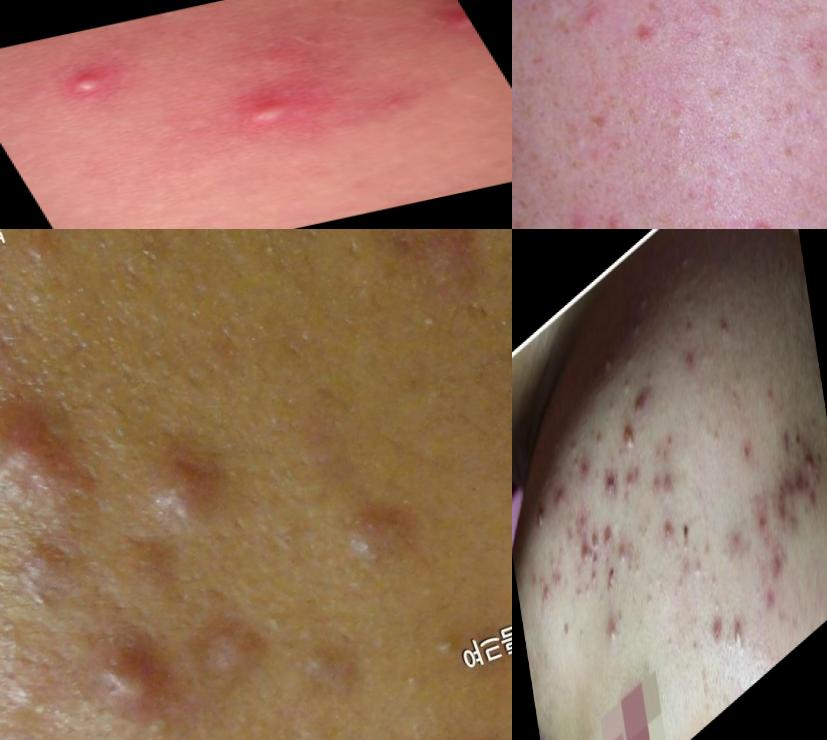acne_scars: (773, 449, 816, 519)
milium: (397, 293, 457, 352)
papular: (1, 380, 105, 541), (553, 191, 611, 230), (593, 196, 650, 230), (628, 378, 655, 434), (570, 1, 613, 35), (754, 498, 779, 555), (657, 456, 684, 502), (601, 458, 623, 512), (767, 543, 789, 595), (658, 511, 682, 554), (575, 523, 595, 566), (679, 344, 699, 385), (552, 476, 571, 519), (548, 564, 567, 605), (589, 422, 607, 462), (577, 448, 594, 490), (623, 465, 641, 503), (601, 508, 614, 551)
purulent: (77, 625, 183, 733), (128, 441, 230, 551), (33, 51, 145, 116), (232, 90, 308, 136), (726, 192, 785, 230), (727, 599, 751, 665), (600, 607, 624, 660), (620, 414, 641, 460), (532, 499, 550, 539)
whitehead: (418, 613, 467, 675), (615, 517, 643, 590), (705, 411, 731, 458), (685, 616, 707, 670), (714, 297, 735, 353), (679, 293, 702, 344), (575, 567, 601, 612), (641, 565, 661, 622), (720, 536, 738, 583), (537, 570, 555, 616), (690, 552, 707, 589), (568, 430, 582, 473), (630, 314, 645, 351), (547, 542, 562, 576), (640, 282, 655, 315), (625, 344, 638, 378), (712, 586, 724, 620), (623, 376, 639, 399), (603, 349, 615, 376)
